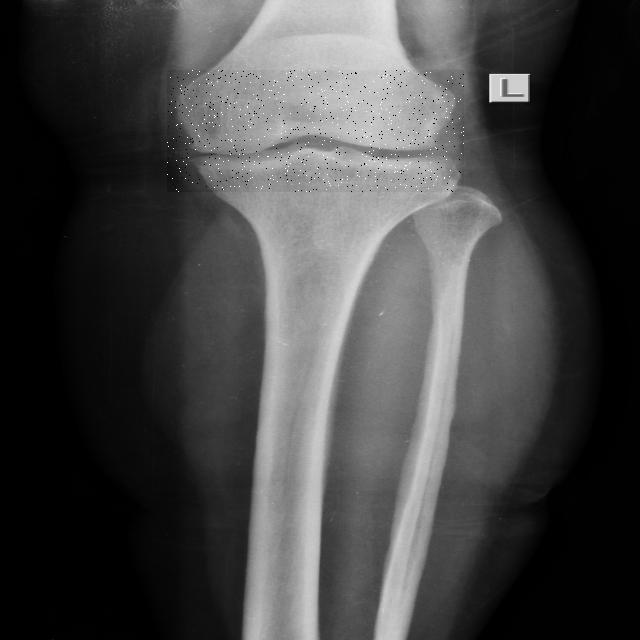normal: (167, 70, 464, 192)
